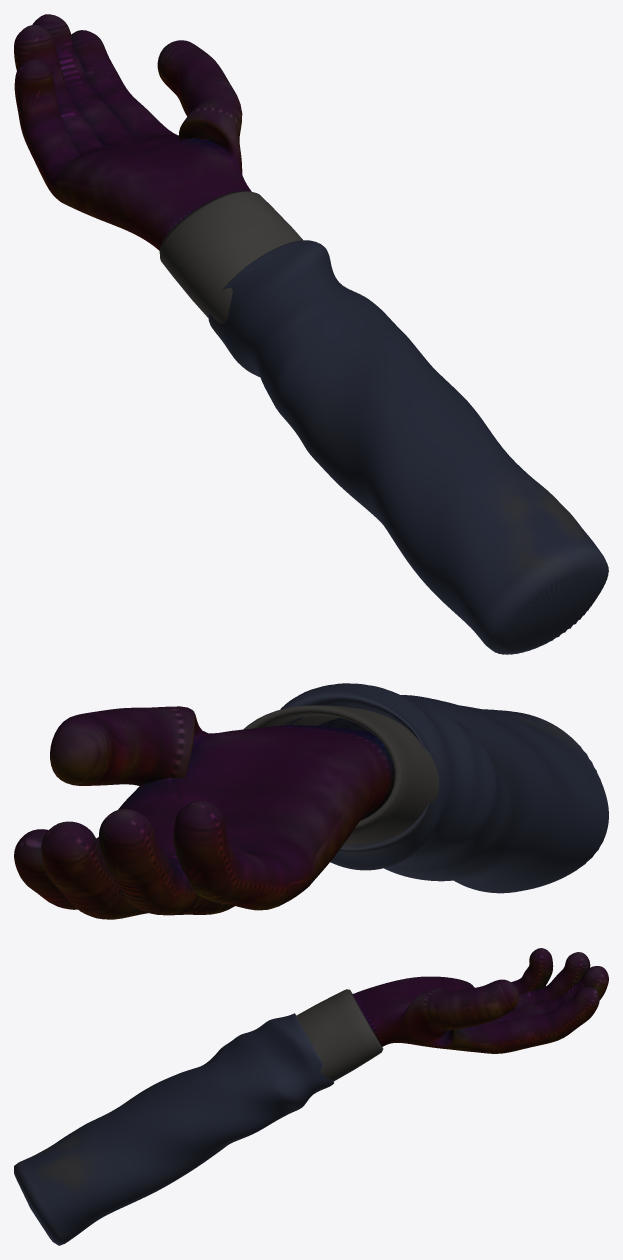
File: fp_hand_R_cradle.glb
The picture shows the model from 3 angles, top to bottom: view 1: azimuth 30°, elevation 25°; view 2: azimuth 150°, elevation 25°; view 3: azimuth 270°, elevation 25°; orthographic projection. The views are drawn at different scales.
Parts seen in each view (by area): view 1: fp_hand_R_cradle; view 2: fp_hand_R_cradle; view 3: fp_hand_R_cradle.
Part boxes in pixels (x1,y1,x2,y2): fp_hand_R_cradle: (14, 14, 608, 654); fp_hand_R_cradle: (14, 683, 608, 919); fp_hand_R_cradle: (14, 948, 608, 1245).
Bounding box in the file's own units: 0.1423 × 0.2118 × 0.4539.
Materials: 3 (1 with a texture image).
